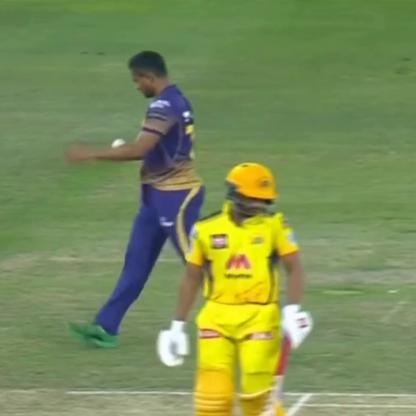ball: (109, 132, 128, 152)
